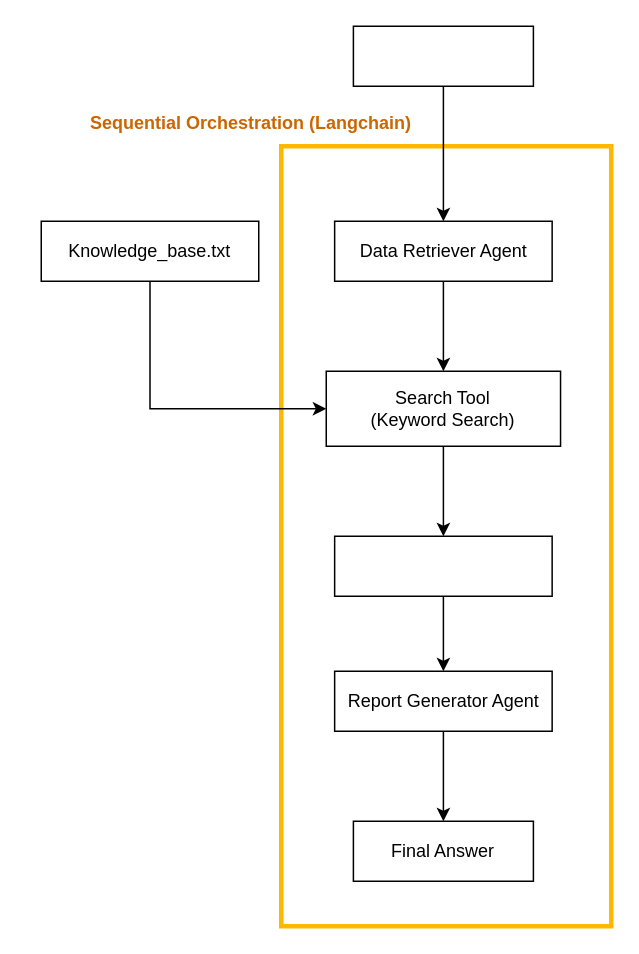
Image size: 639x954. Some labels were removed from this diagram. Here are the shapes that lost their labels. From the top down, the box of each, then its label:
(352, 25, 533, 86): User Question
(333, 535, 552, 596): Relevant Snippets
